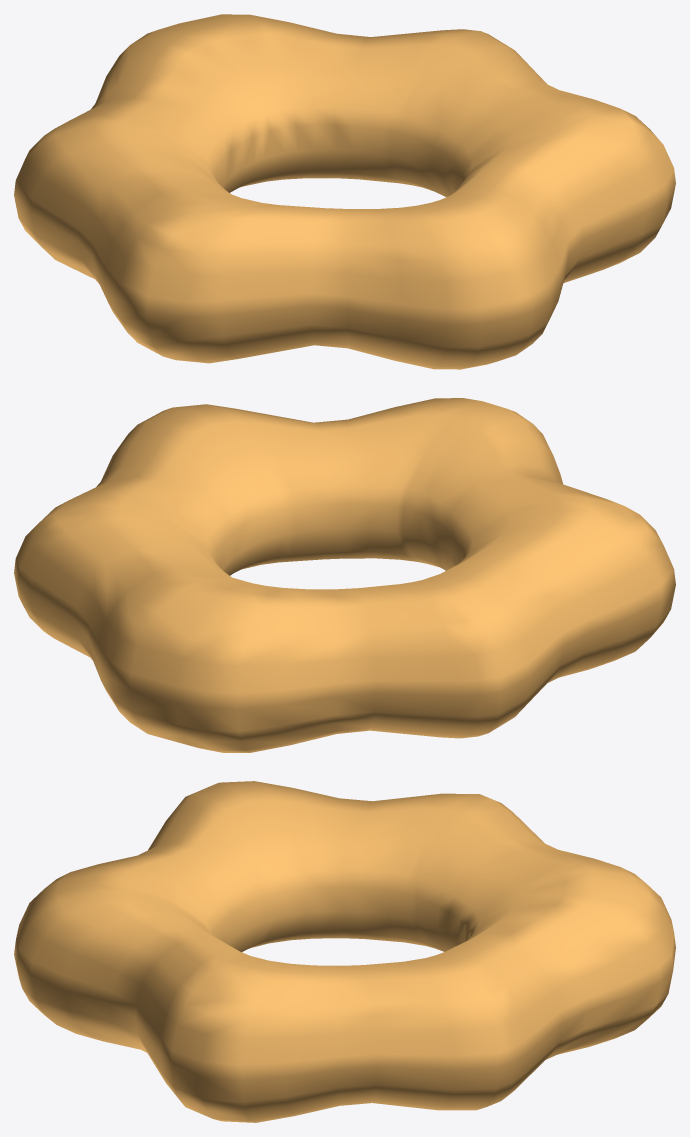
File: SwimRing1.fbx
3 views of the same model, one above another, from view 1: azimuth 30°, elevation 25°; view 2: azimuth 150°, elevation 25°; view 3: azimuth 270°, elevation 25° (orthographic). The views are drawn at different scales.
Visible parts, largest first — view 1: youyongquan:AM94_026_obj_0004; view 2: youyongquan:AM94_026_obj_0004; view 3: youyongquan:AM94_026_obj_0004.
Boxes of the visible parts, x1,y1,x2,y2 form: youyongquan:AM94_026_obj_0004: (14,14,675,369); youyongquan:AM94_026_obj_0004: (14,398,675,752); youyongquan:AM94_026_obj_0004: (14,781,675,1122).
Bounding box in the file's own units: 59.16 × 14.83 × 64.57.
